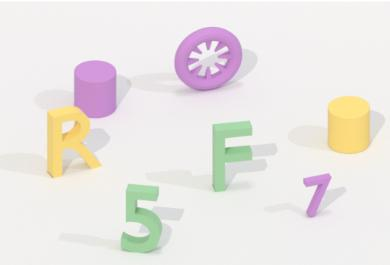0-KhoiTru: (323, 91, 375, 158), (72, 57, 119, 121)
0-TronLo: (171, 23, 247, 95)
5: (118, 179, 166, 258), (301, 168, 337, 222)
F: (207, 118, 258, 198)
R: (43, 105, 104, 182)
